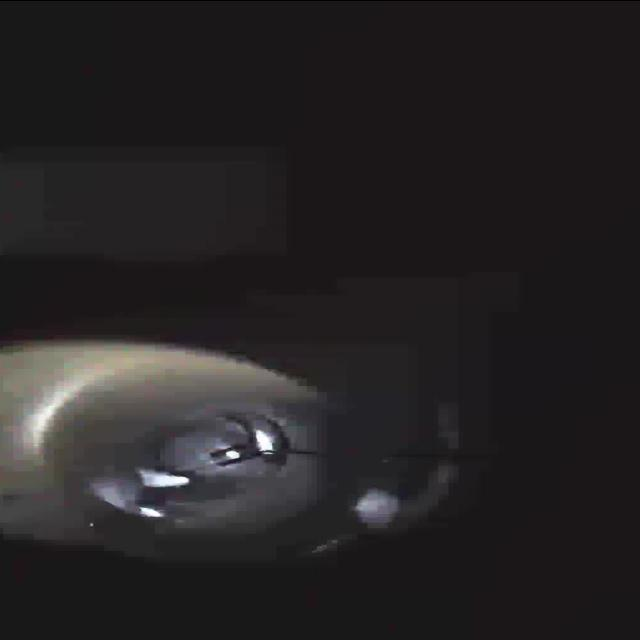impurity: (128, 463, 192, 490)
